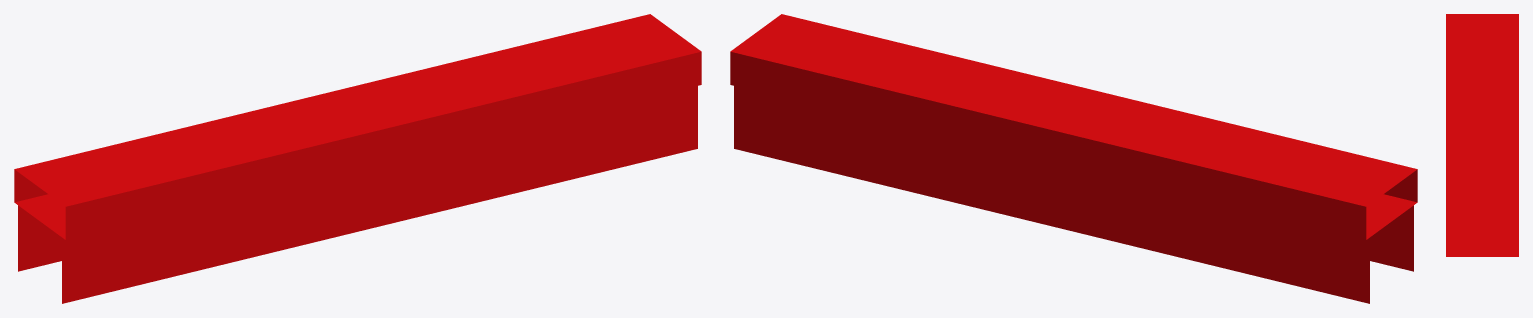
The model's file is SM_fence_bottom.fbx.
3 views of the same model, side by side, from view 1: azimuth 30°, elevation 25°; view 2: azimuth 150°, elevation 25°; view 3: azimuth 270°, elevation 25° (orthographic). The views are drawn at different scales.
Parts seen in each view (by area): view 1: fencebottop_low.001; view 2: fencebottop_low.001; view 3: fencebottop_low.001.
Part boxes in pixels (x1,y1,x2,y2): fencebottop_low.001: (14,14,701,303); fencebottop_low.001: (730,14,1417,303); fencebottop_low.001: (1446,14,1518,256).
Bounding box in the file's own units: 200 × 30 × 28.
